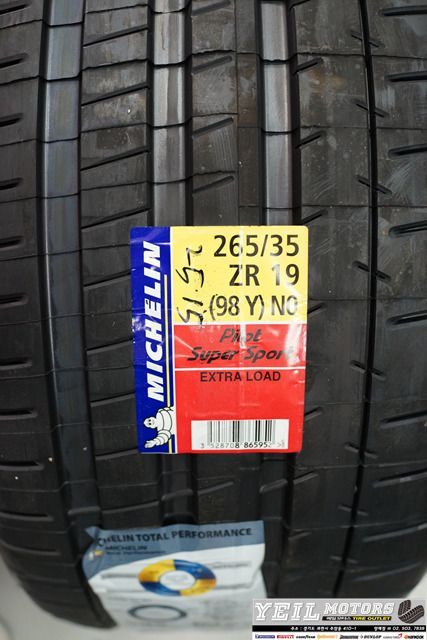new_condition: (5, 3, 427, 585)
